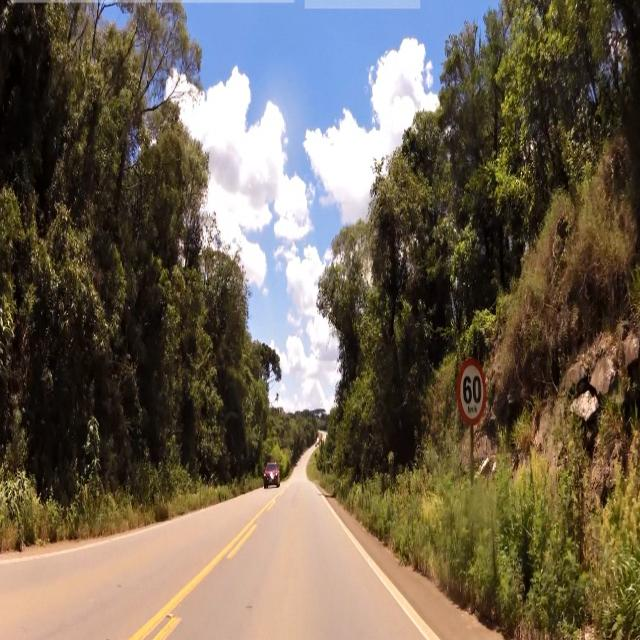R-19: (454, 355, 490, 428)
